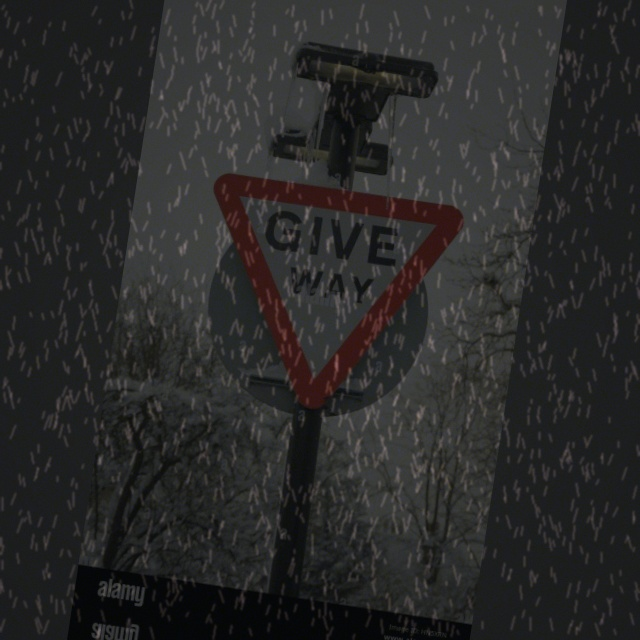Give_Way: (185, 169, 462, 431)
